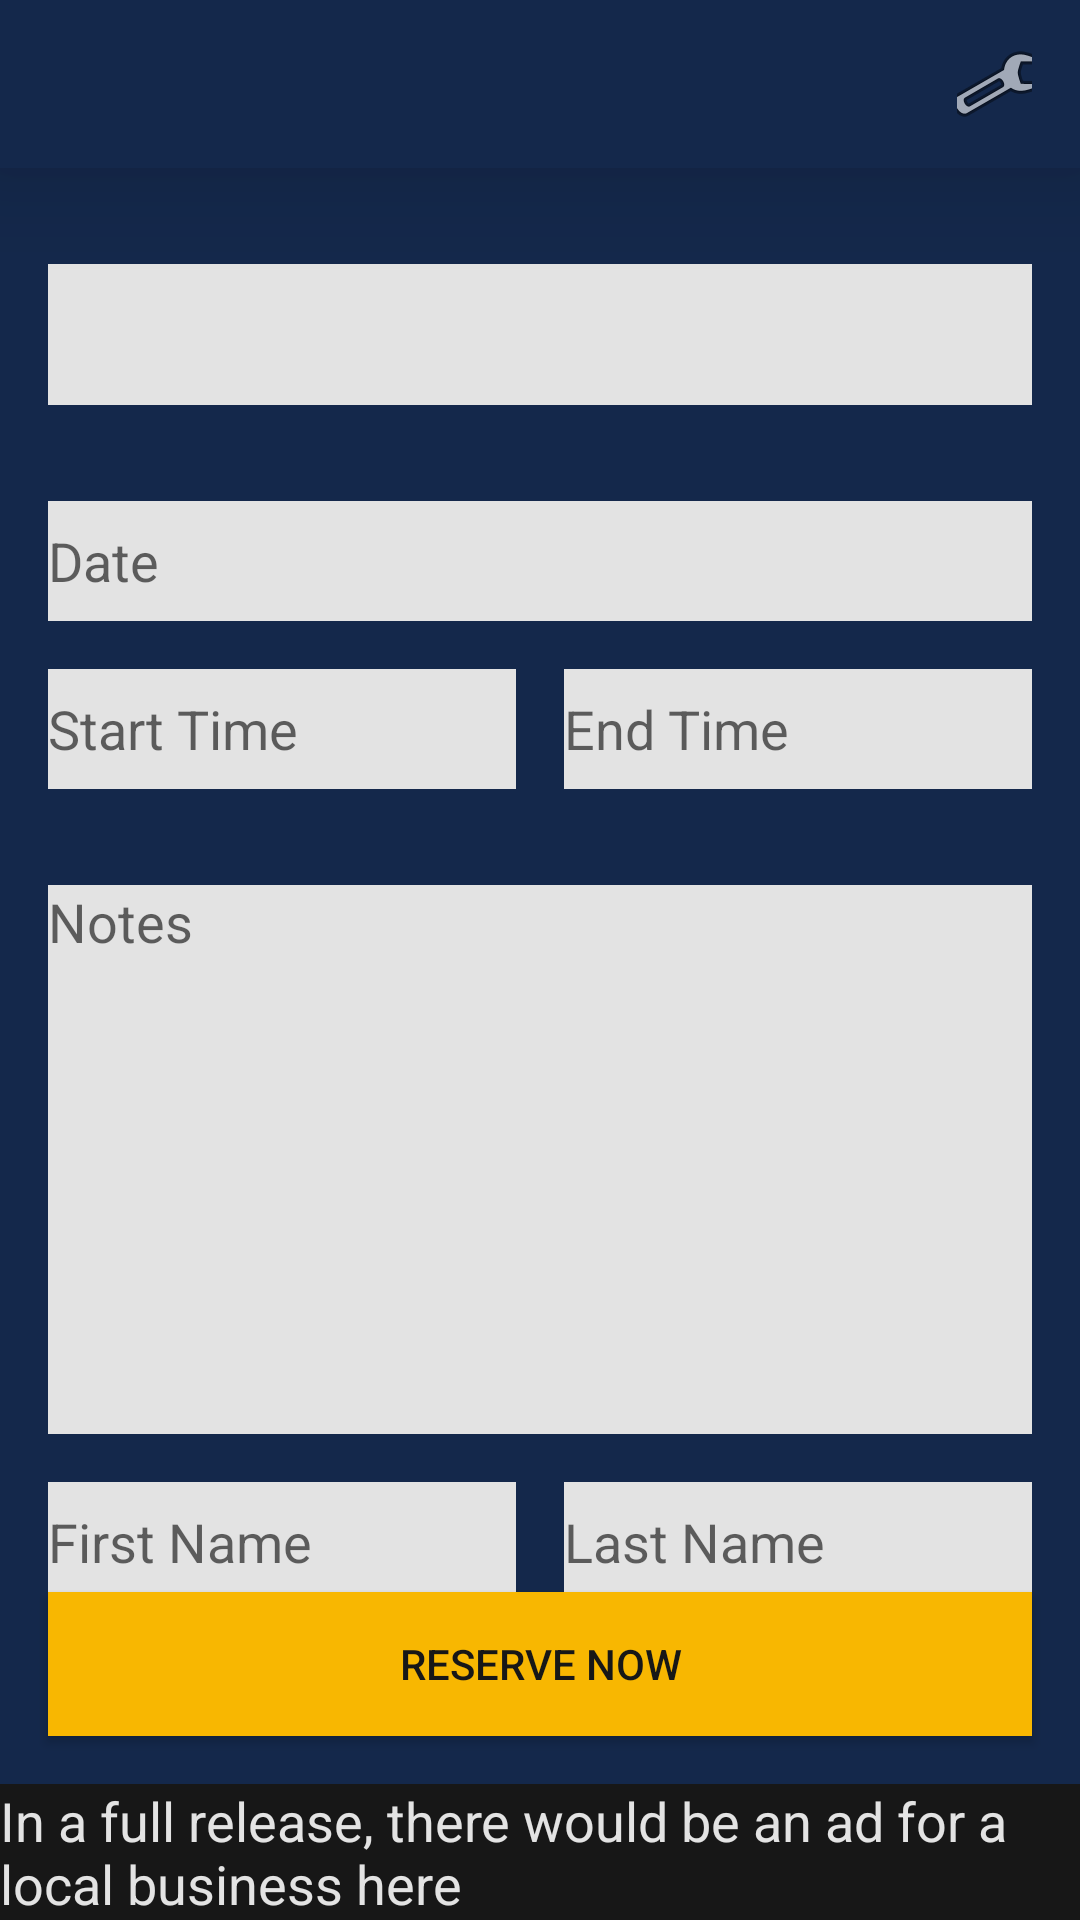

Icon bounding boxes for this 1080×1920 phone screenshot, format (x1, y1, x2, y2):
manage: (957, 52, 1032, 116)
